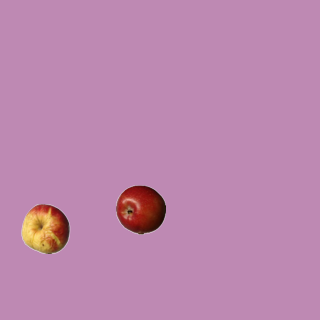Apple Braeburn: (115, 184, 165, 234)
Apple Red Yellow 1: (20, 203, 70, 253)
